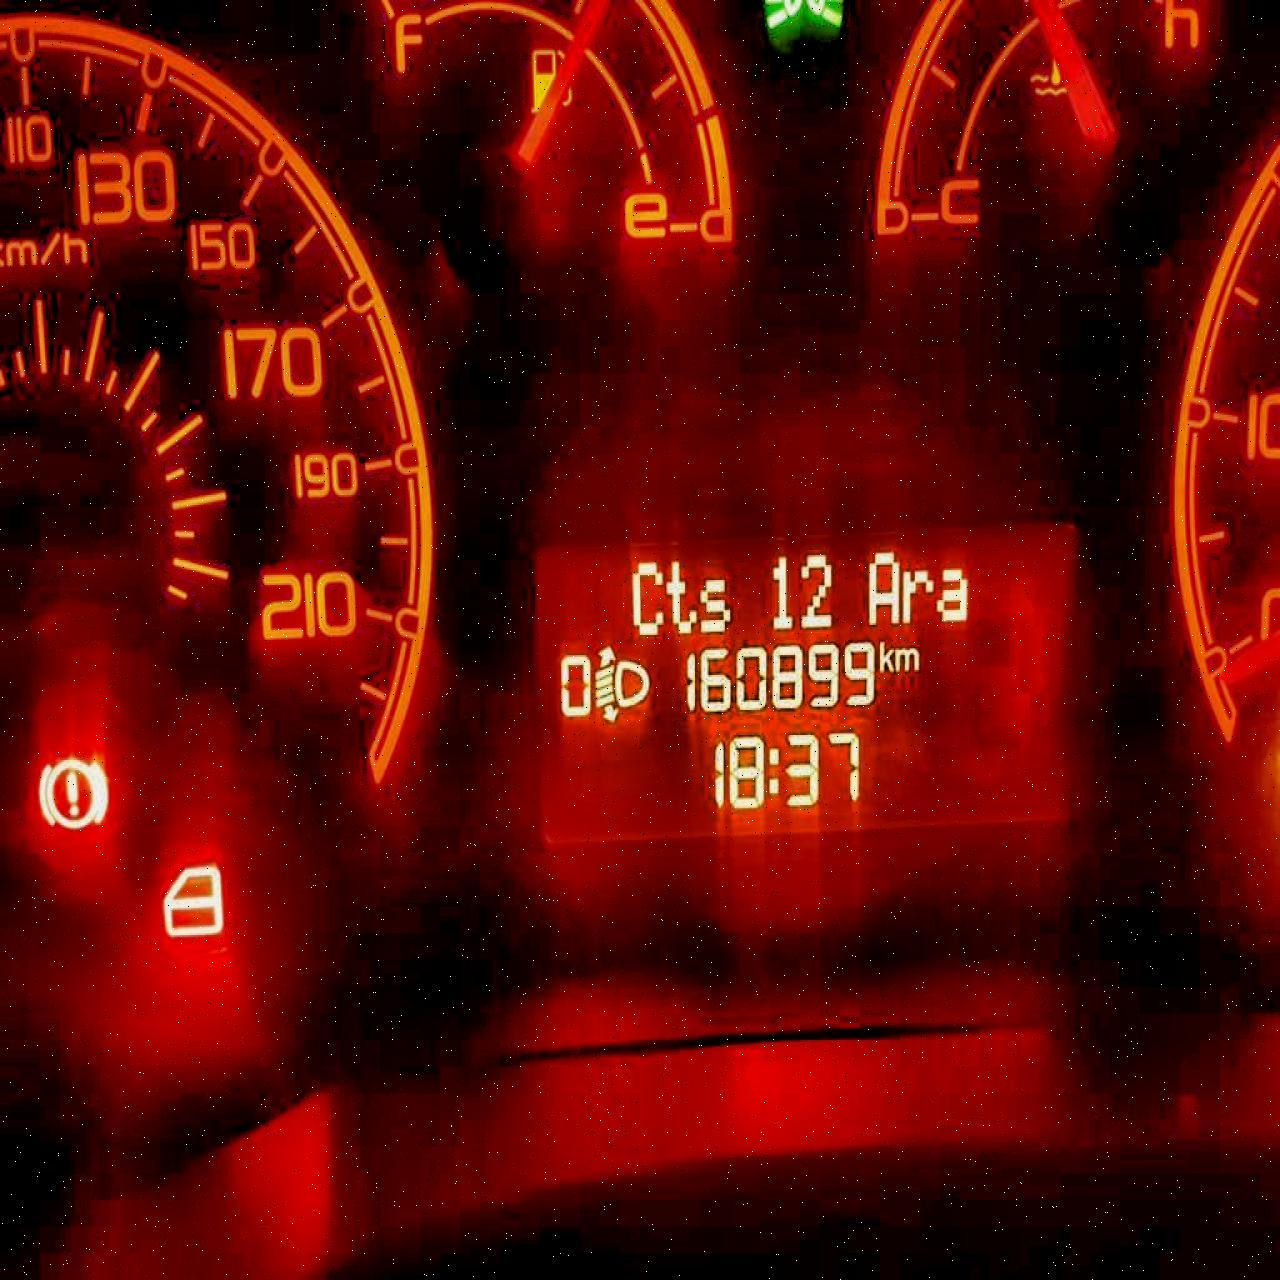0: (734, 644, 768, 714), (558, 652, 591, 716)
1: (769, 550, 795, 633), (712, 735, 726, 812), (682, 647, 697, 715)
2: (799, 550, 835, 628)
3: (785, 730, 819, 809)
6: (699, 645, 731, 713)
7: (828, 729, 862, 803)
8: (727, 734, 764, 809), (771, 641, 803, 708)
9: (806, 640, 840, 708), (843, 639, 873, 707)
X: (628, 558, 663, 636), (866, 546, 900, 625), (665, 557, 697, 635), (696, 576, 731, 635), (933, 567, 968, 624), (901, 567, 934, 624), (767, 742, 782, 798), (894, 644, 920, 674), (878, 636, 893, 673)
odometer: (523, 511, 1089, 862)
